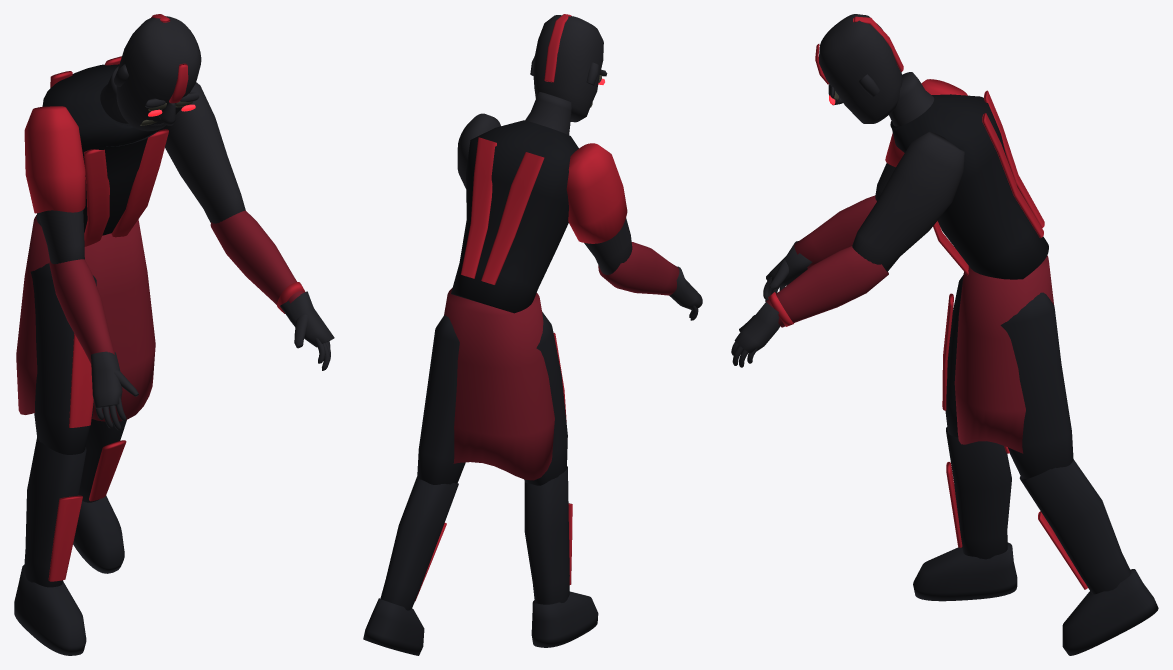
The model's file is enemy-lab-hunter.glb.
3 views of the same model, side by side, from view 1: azimuth 30°, elevation 25°; view 2: azimuth 150°, elevation 25°; view 3: azimuth 270°, elevation 25° (orthographic). The views are drawn at different scales.
Visible parts, largest first — view 1: Torn patient gown, Chest, Trouser thigh_L, Anatomical head, Upper arm_R, Short sleeve_L, Trouser shin_L, Shoe_L, Forearm anatomy_R, Forearm anatomy_L, Shoe_R, Hunter chest slash_1 (+9 smaller); view 2: Torn patient gown, Chest, Trouser shin_L, Trouser thigh_R, Trouser shin_R, Short sleeve_L, Anatomical head, Shoe_L, Hunter back slash_-1, Forearm anatomy_L, Hunter back slash_1, Trouser thigh_L (+6 smaller); view 3: Chest, Torn patient gown, Trouser thigh_R, Upper arm_R, Trouser shin_R, Trouser shin_L, Anatomical head, Forearm anatomy_R, Shoe_L, Shoe_R, Forearm anatomy_L, Neck (+7 smaller).
Part boxes in pixels (x1,y1,x2,y2): Torn patient gown: (16, 215, 155, 422); Chest: (36, 64, 166, 235); Trouser thigh_L: (30, 263, 96, 454); Anatomical head: (116, 16, 201, 131); Upper arm_R: (165, 82, 245, 223); Short sleeve_L: (24, 106, 85, 213); Trouser shin_L: (24, 437, 86, 587); Shoe_L: (14, 565, 86, 655); Forearm anatomy_R: (210, 210, 303, 312); Forearm anatomy_L: (49, 259, 114, 363); Shoe_R: (73, 495, 124, 573); Hunter chest slash_1: (111, 129, 168, 237); Torn patient gown: (444, 288, 554, 480); Chest: (451, 120, 578, 313); Trouser shin_L: (524, 466, 569, 604); Trouser thigh_R: (417, 315, 465, 484); Trouser shin_R: (380, 476, 458, 610); Short sleeve_L: (566, 143, 627, 243); Anatomical head: (533, 15, 603, 122); Shoe_L: (531, 591, 598, 647); Hunter back slash_-1: (481, 152, 544, 284); Forearm anatomy_L: (598, 242, 679, 295); Hunter back slash_1: (461, 137, 496, 278); Trouser thigh_L: (524, 311, 567, 485); Chest: (891, 94, 1048, 279); Torn patient gown: (954, 255, 1054, 453); Trouser thigh_R: (1000, 292, 1073, 478); Upper arm_R: (852, 131, 964, 271); Trouser shin_R: (1019, 459, 1131, 594); Trouser shin_L: (946, 427, 1011, 559); Anatomical head: (819, 14, 902, 123); Forearm anatomy_R: (766, 246, 888, 327); Shoe_L: (913, 542, 1017, 601); Shoe_R: (1062, 569, 1158, 655); Forearm anatomy_L: (794, 195, 876, 268); Neck: (889, 72, 934, 126).
Bounding box in the file's own units: 0.5667 × 1.6 × 1.02.
